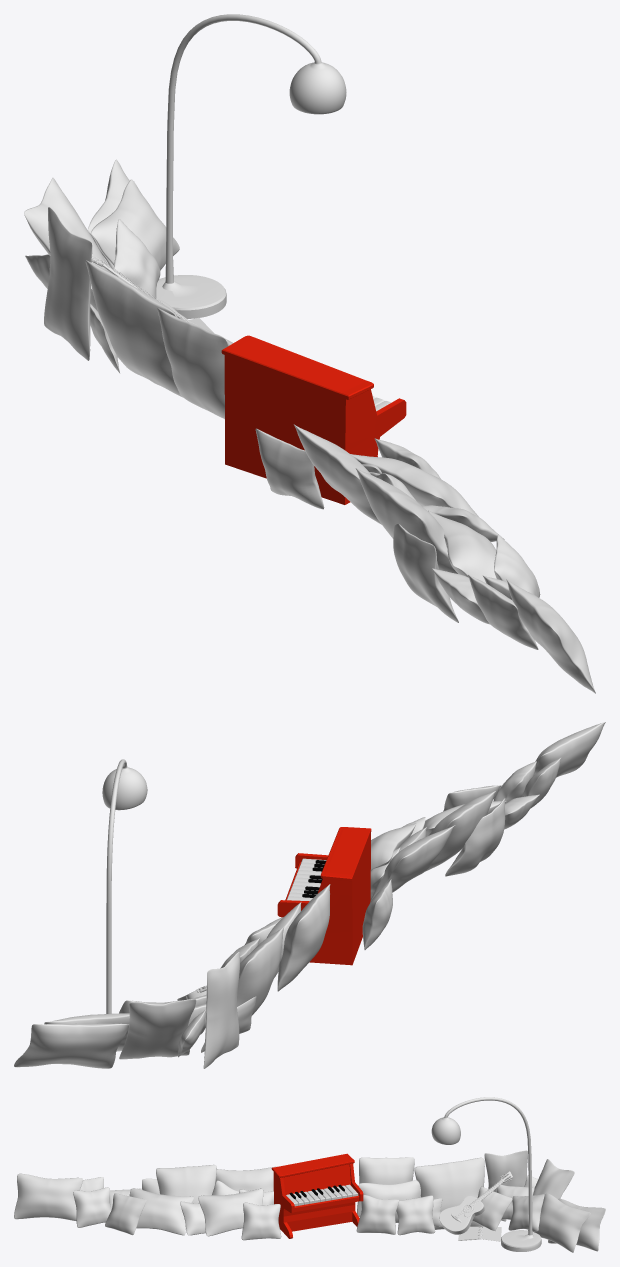
The model's file is chambre test estrade coussin 1.fbx.
3 renders of one model, top to bottom at view 1: azimuth 30°, elevation 25°; view 2: azimuth 150°, elevation 25°; view 3: azimuth 270°, elevation 25°, orthographic. The views are drawn at different scales.
Visible parts, largest first — view 1: Piano_Jouet|Piano_jouet|Dupli|, Lampe_Pied.002|Lampe_Pied|Dupli|, Coussin_A.002|Coussin_A|Dupli|, Coussin_B.005|Coussin_B|Dupli|, Coussin_A.001|Coussin_A|Dupli|, Coussin_B.010|Coussin_B|Dupli|, Coussin_A.011|Coussin_A|Dupli|, Coussin_B.006|Coussin_B|Dupli|, Coussin_C.004|Coussin_C|Dupli|, Coussin_D.002|Coussin_D|Dupli|, Coussin_B.002|Coussin_B|Dupli|, Coussin_B.001|Coussin_B|Dupli| (+8 smaller); view 2: Piano_Jouet|Piano_jouet|Dupli|, Coussin_B.007|Coussin_B|Dupli|, Coussin_B.003|Coussin_B|Dupli|, Coussin_B.005|Coussin_B|Dupli|, Lampe_Pied.002|Lampe_Pied|Dupli|, Coussin_A.001|Coussin_A|Dupli|, Coussin_A.002|Coussin_A|Dupli|, Coussin_B.002|Coussin_B|Dupli|, Coussin_D.002|Coussin_D|Dupli|, Coussin_A.011|Coussin_A|Dupli|, Coussin_B.010|Coussin_B|Dupli|, Coussin_C.004|Coussin_C|Dupli| (+9 smaller); view 3: Piano_Jouet|Piano_jouet|Dupli|, Coussin_A.002|Coussin_A|Dupli|, Coussin_B.010|Coussin_B|Dupli|, Lampe_Pied.002|Lampe_Pied|Dupli|, Coussin_B.001|Coussin_B|Dupli|, Coussin_B.006|Coussin_B|Dupli|, Coussin_B.015|Coussin_B|Dupli|, Coussin_A.011|Coussin_A|Dupli|, Coussin_A.001|Coussin_A|Dupli|, Coussin_C.010|Coussin_C|Dupli|, Coussin_C.006|Coussin_C|Dupli|, Guitare.001|Guitare|Dupli| (+17 smaller).
Part boxes in pixels (<box>): Piano_Jouet|Piano_jouet|Dupli|: <box>221,335,406,504</box>; Lampe_Pied.002|Lampe_Pied|Dupli|: <box>156,14,346,318</box>; Coussin_A.002|Coussin_A|Dupli|: <box>85,260,182,397</box>; Coussin_B.005|Coussin_B|Dupli|: <box>44,207,92,360</box>; Coussin_A.001|Coussin_A|Dupli|: <box>157,308,229,419</box>; Coussin_B.010|Coussin_B|Dupli|: <box>506,579,595,693</box>; Coussin_A.011|Coussin_A|Dupli|: <box>355,468,457,573</box>; Coussin_B.006|Coussin_B|Dupli|: <box>91,179,179,270</box>; Coussin_C.004|Coussin_C|Dupli|: <box>255,428,324,509</box>; Coussin_D.002|Coussin_D|Dupli|: <box>393,524,458,622</box>; Coussin_B.002|Coussin_B|Dupli|: <box>293,424,381,524</box>; Coussin_B.001|Coussin_B|Dupli|: <box>350,454,478,516</box>; Piano_Jouet|Piano_jouet|Dupli|: <box>277,827,371,965</box>; Coussin_B.007|Coussin_B|Dupli|: <box>14,1023,128,1068</box>; Coussin_B.003|Coussin_B|Dupli|: <box>119,999,196,1059</box>; Coussin_B.005|Coussin_B|Dupli|: <box>203,952,240,1068</box>; Lampe_Pied.002|Lampe_Pied|Dupli|: <box>102,759,147,1051</box>; Coussin_A.001|Coussin_A|Dupli|: <box>277,884,330,991</box>; Coussin_A.002|Coussin_A|Dupli|: <box>237,927,283,1015</box>; Coussin_B.002|Coussin_B|Dupli|: <box>370,825,455,902</box>; Coussin_D.002|Coussin_D|Dupli|: <box>445,798,505,876</box>; Coussin_A.011|Coussin_A|Dupli|: <box>425,791,496,871</box>; Coussin_B.010|Coussin_B|Dupli|: <box>534,722,605,777</box>; Coussin_C.004|Coussin_C|Dupli|: <box>362,879,392,949</box>; Piano_Jouet|Piano_jouet|Dupli|: <box>271,1153,363,1238</box>; Coussin_A.002|Coussin_A|Dupli|: <box>414,1157,484,1229</box>; Coussin_B.010|Coussin_B|Dupli|: <box>14,1173,82,1221</box>; Lampe_Pied.002|Lampe_Pied|Dupli|: <box>431,1097,541,1251</box>; Coussin_B.001|Coussin_B|Dupli|: <box>198,1188,263,1236</box>; Coussin_B.006|Coussin_B|Dupli|: <box>528,1193,590,1252</box>; Coussin_B.015|Coussin_B|Dupli|: <box>129,1188,193,1235</box>; Coussin_A.011|Coussin_A|Dupli|: <box>156,1164,216,1203</box>; Coussin_A.001|Coussin_A|Dupli|: <box>357,1157,414,1217</box>; Coussin_C.010|Coussin_C|Dupli|: <box>356,1195,398,1234</box>; Coussin_C.006|Coussin_C|Dupli|: <box>241,1202,281,1240</box>; Guitare.001|Guitare|Dupli|: <box>439,1171,512,1234</box>.
Size of the model in its own units: 141 by 198 by 655.
